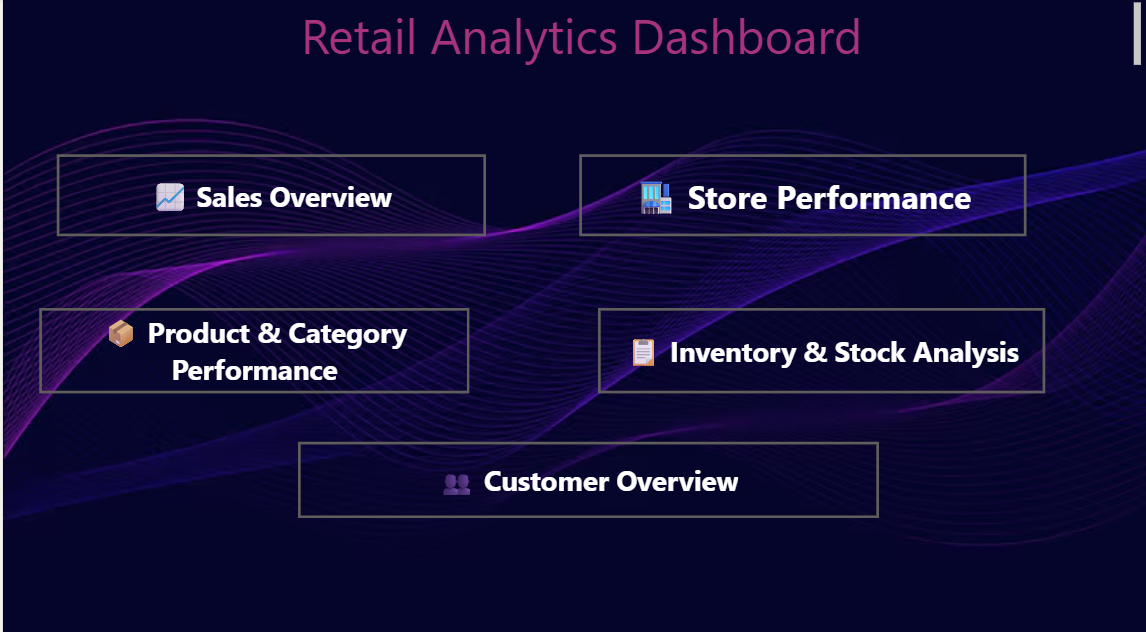

The dashboard page shown, as its layout file describes it:
{"tool":"powerbi","page":{"name":"Home","canvas":[1280,720],"ordinal":0},"visuals":[{"type":"textbox","box":[10,0,1261.2,80],"z":0},{"type":"actionButton","box":[60,173.8,477.5,91.2],"z":1000},{"type":"actionButton","box":[641.2,173.8,497.5,91.2],"z":2000},{"type":"actionButton","box":[40,345,478.8,95],"z":3000},{"type":"actionButton","box":[661.2,345,497.5,95],"z":4000},{"type":"actionButton","box":[328.8,493.8,646.2,85],"z":5000}]}

Visuals, with their boxes in screenshot pixels (x1, y1, x2, y2), scaled from the page's 1280x720 canvas onto the 1146x632 screenshot:
textbox: bbox=[9, 0, 1138, 70]
actionButton: bbox=[54, 153, 481, 233]
actionButton: bbox=[574, 153, 1019, 233]
actionButton: bbox=[36, 303, 464, 386]
actionButton: bbox=[592, 303, 1037, 386]
actionButton: bbox=[294, 433, 873, 508]
